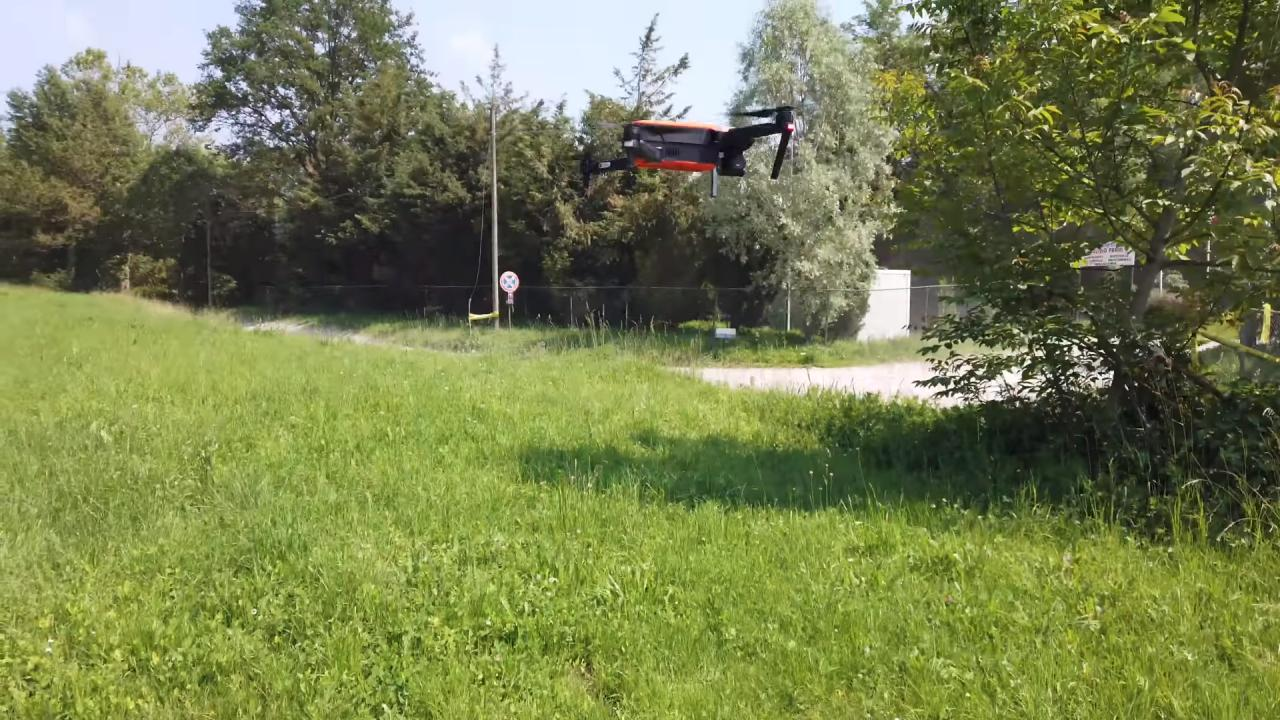Drone: (546, 88, 835, 212)
